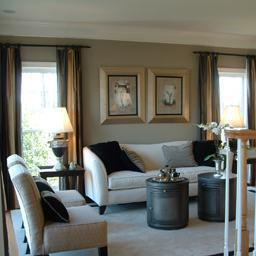Ventana: (16, 64, 69, 164), (214, 69, 250, 129)
